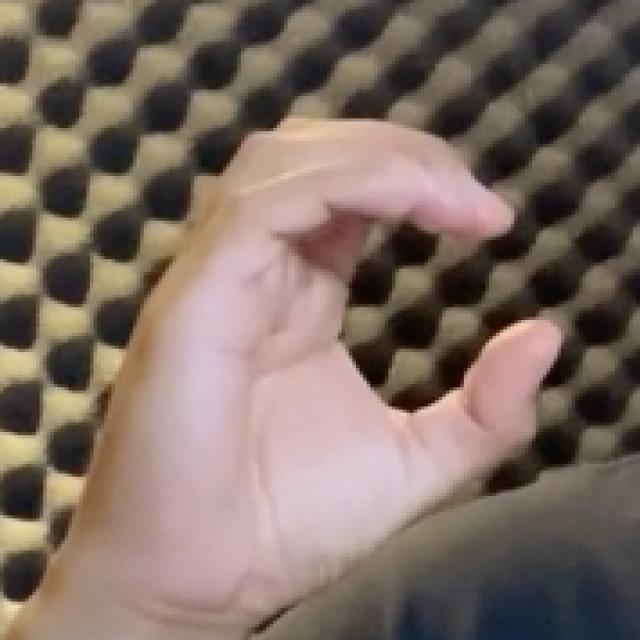C: (46, 109, 580, 610)
